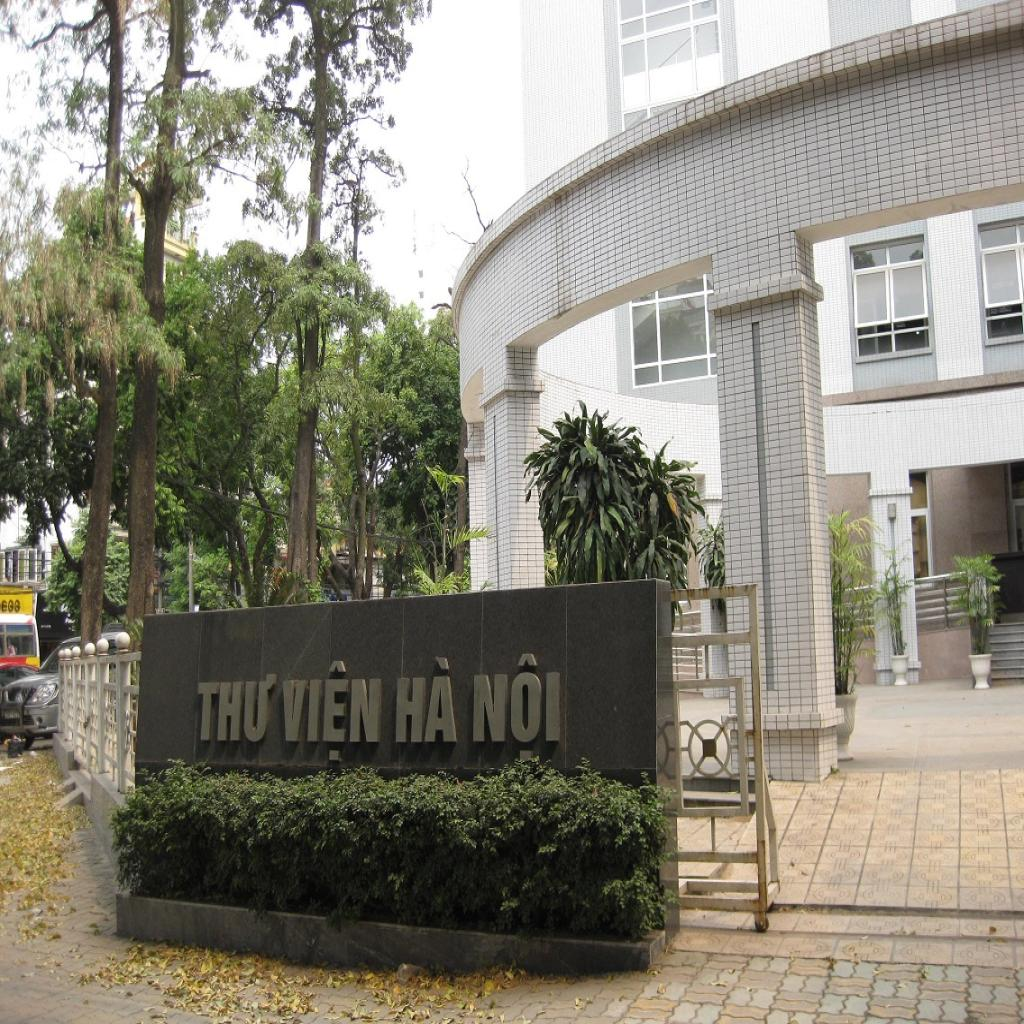text: (282, 659, 385, 769), (470, 653, 564, 768), (193, 669, 280, 750), (393, 655, 461, 751)
